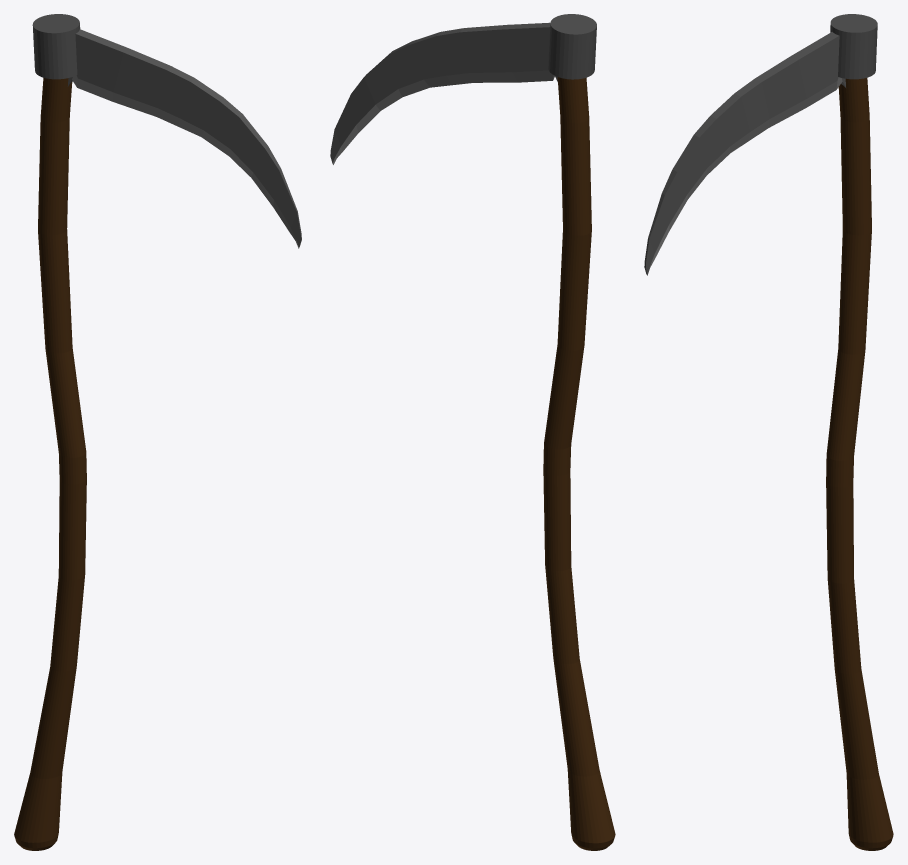
File: sense.obj
The picture shows the model from 3 angles, left to right: view 1: azimuth 30°, elevation 25°; view 2: azimuth 210°, elevation 25°; view 3: azimuth 270°, elevation 25°; orthographic projection.
Parts seen in each view (by area): view 1: Cylinder.000_Cylinder.004; view 2: Cylinder.000_Cylinder.004; view 3: Cylinder.000_Cylinder.004.
Part boxes in pixels (bbox=[...]): Cylinder.000_Cylinder.004: bbox=[14, 14, 301, 850]; Cylinder.000_Cylinder.004: bbox=[330, 14, 615, 850]; Cylinder.000_Cylinder.004: bbox=[644, 14, 893, 850].
Size of the model in its own units: 0.6813 by 3.13 by 0.8495.
Materials: 1 (1 with a texture image).
